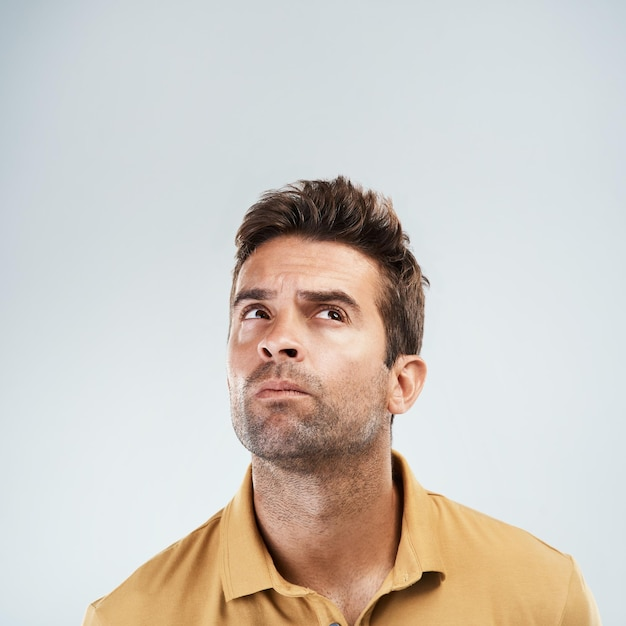young: (191, 180, 420, 453)
